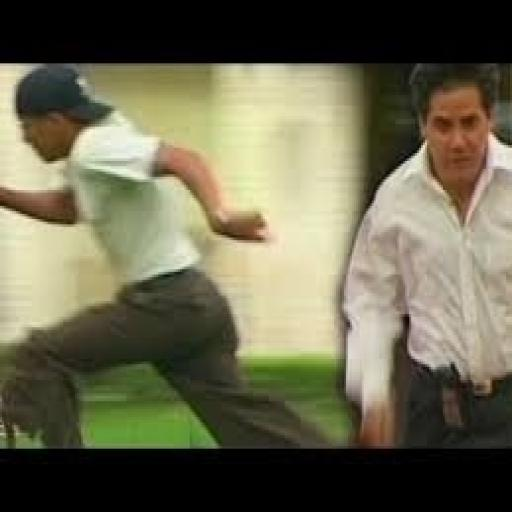running: (0, 60, 332, 448), (338, 61, 510, 451)
